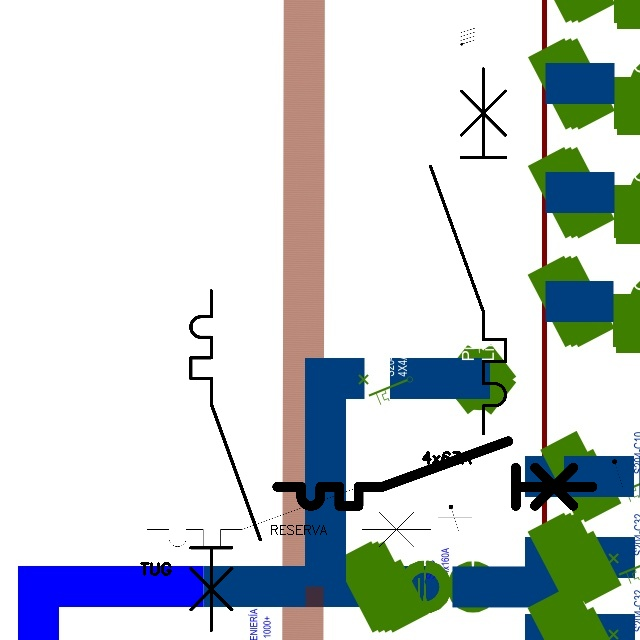interruptor_termomagnetico: (421, 59, 515, 443), (182, 282, 269, 639), (269, 433, 600, 514), (140, 481, 438, 554)
